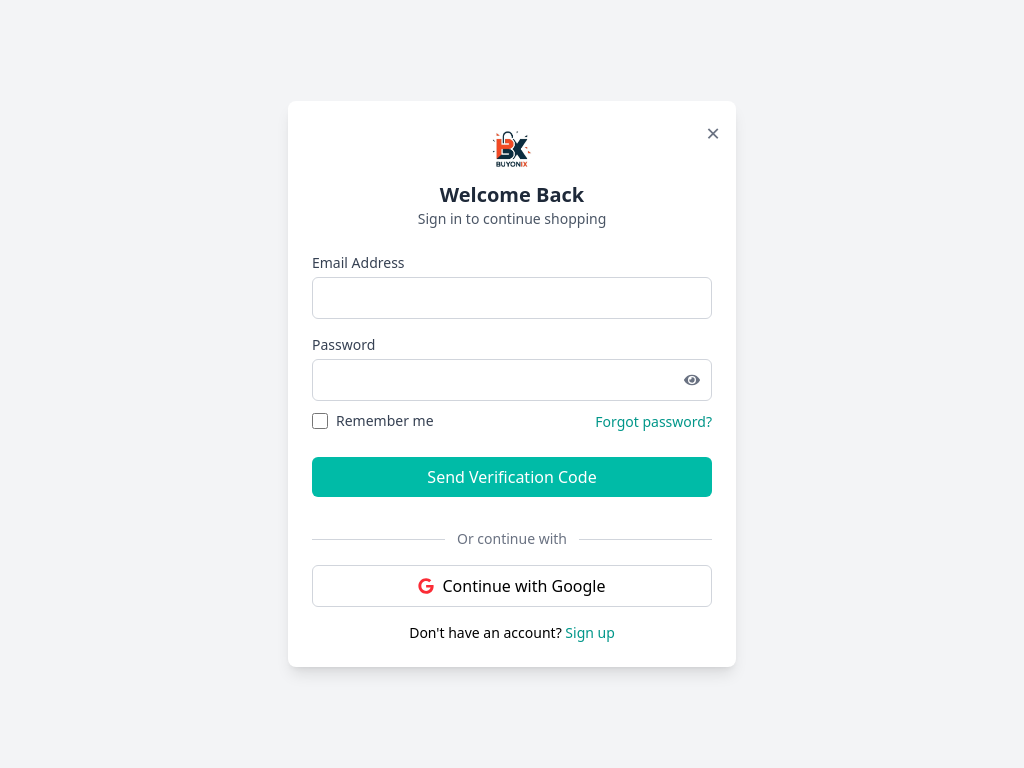
Scenario: Authentication Flow Integration Tests › Login Flow › should complete full login OTP flow: credentials → OTP step
# Fill credentials
Type "user@example.com" into the field labelled "Email Address" at (512, 298), box x1=312 y1=277 x2=712 y2=319
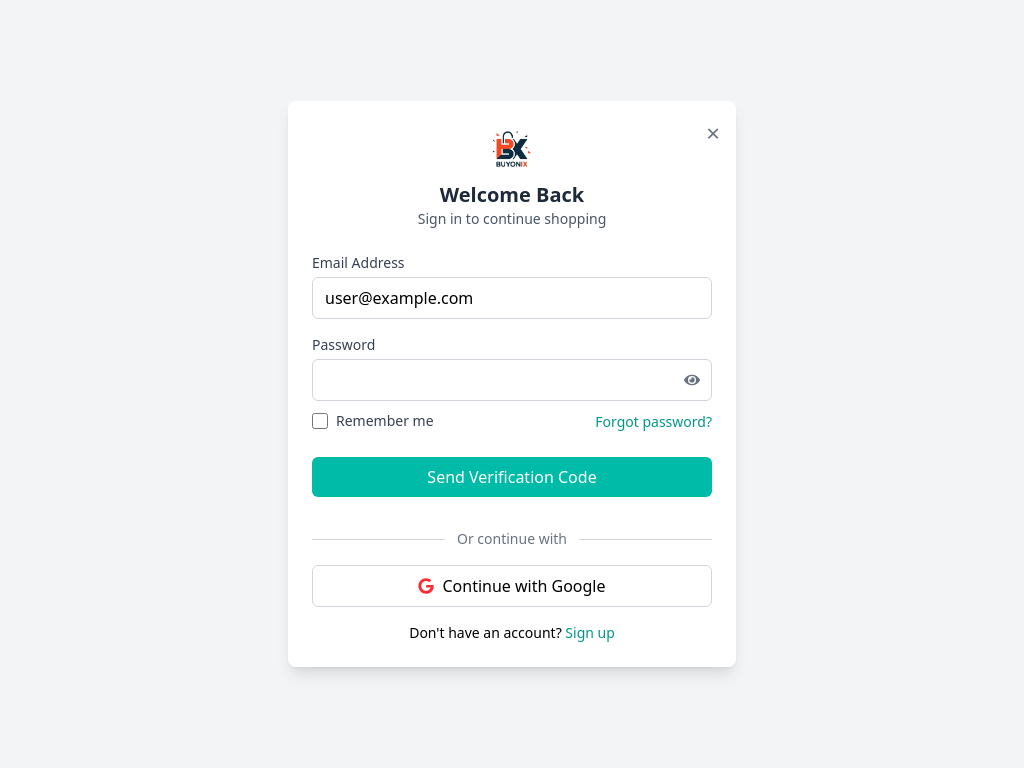
Type "password123" into the password field labelled "Password" at (512, 380), box x1=312 y1=359 x2=712 y2=401
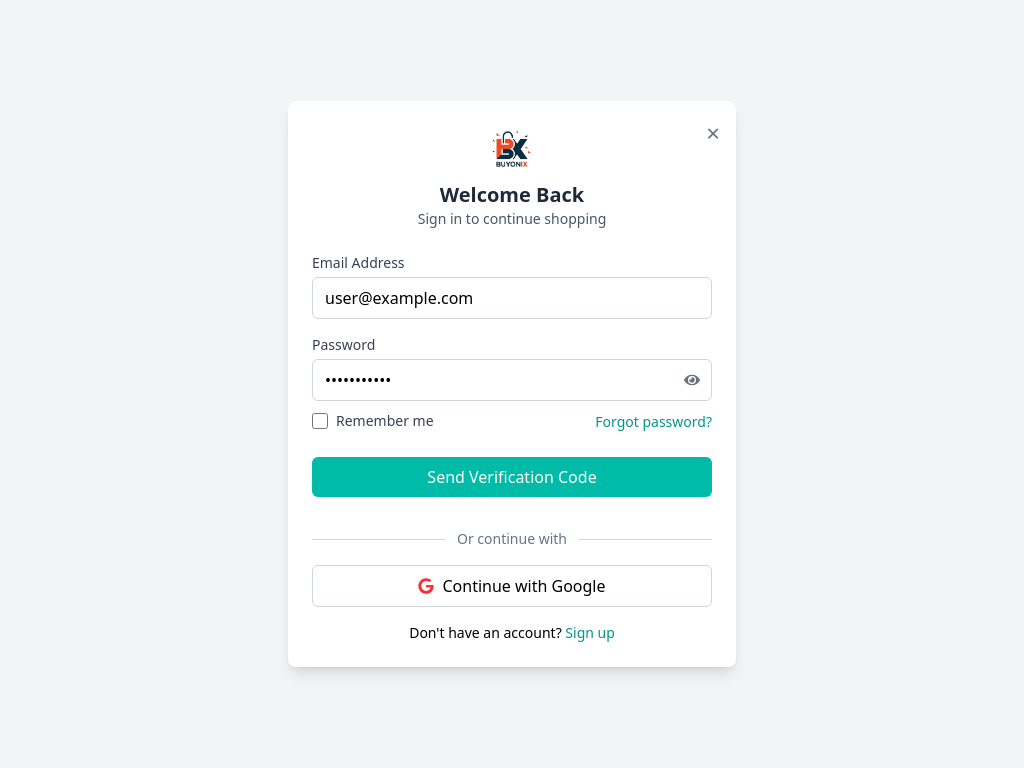
# Step 2: Submit
Click the button "Send Verification Code" at (512, 477), box x1=312 y1=457 x2=712 y2=497
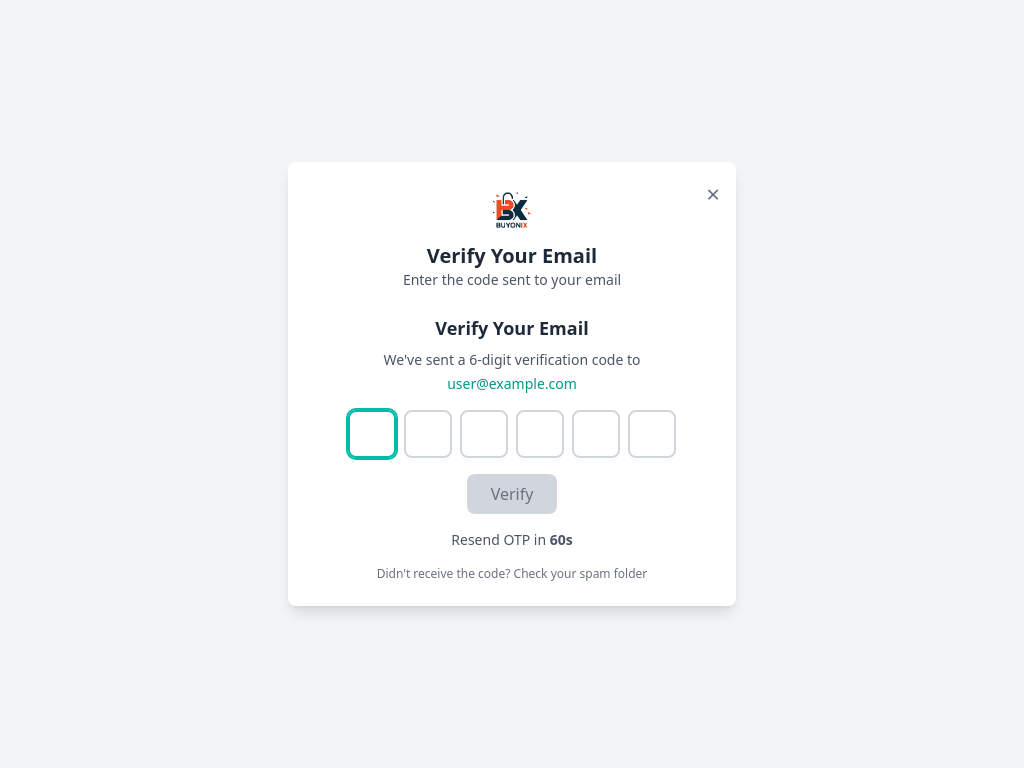
Expected: the text "We've sent a 6-digit verification code to" is shown, x1=384 y1=350 x2=641 y2=369
